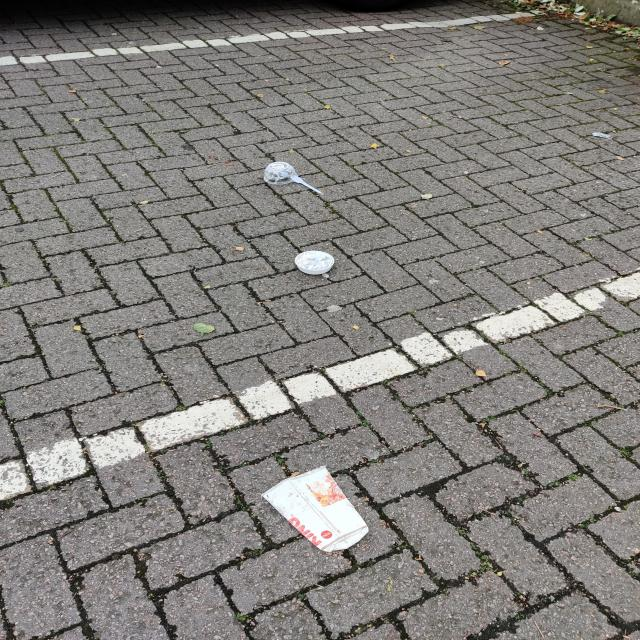litter: (260, 466, 369, 552), (294, 250, 335, 274), (263, 161, 298, 185), (291, 176, 322, 193)
